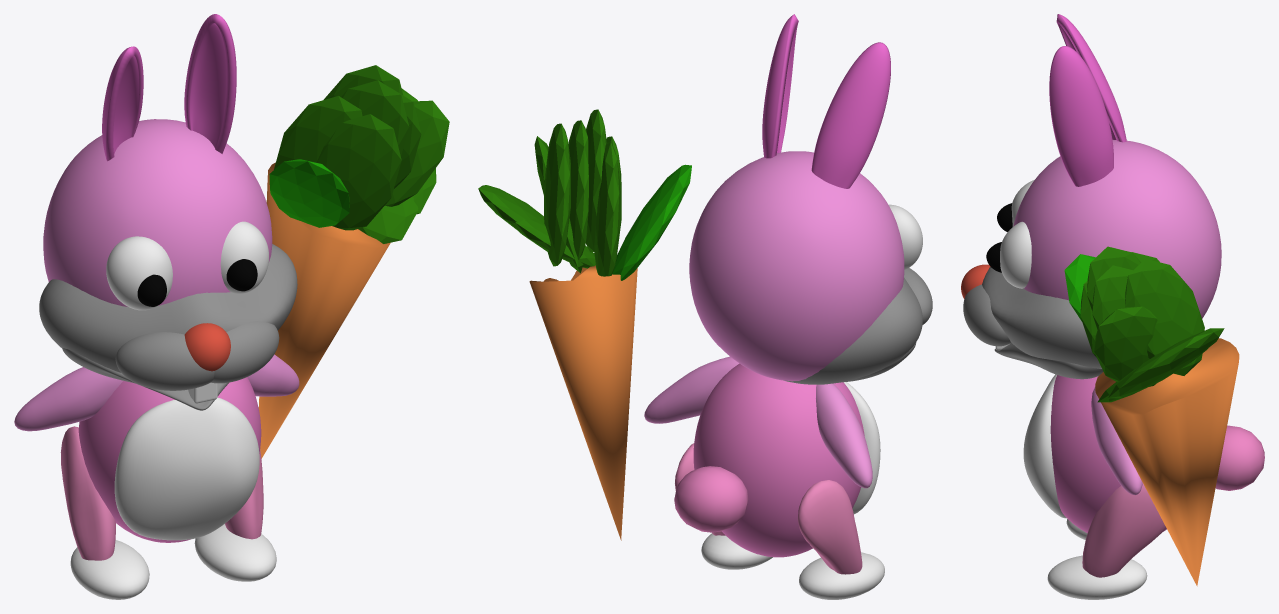
3 renders of one model, left to right at view 1: azimuth 30°, elevation 25°; view 2: azimuth 150°, elevation 25°; view 3: azimuth 270°, elevation 25°, orthographic. The views are drawn at different scales.
Parts seen in each view (by area): view 1: Roundcube; view 2: Roundcube; view 3: Roundcube.
Part boxes in pixels (x1=…): Roundcube: x1=14, y1=14, x2=449, y2=599; Roundcube: x1=478, y1=14, x2=932, y2=599; Roundcube: x1=961, y1=14, x2=1264, y2=599.
Bounding box in the file's own units: 5.91 × 7.87 × 4.08.
